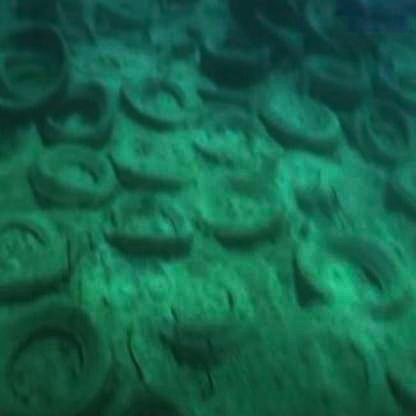tire: (13, 303, 124, 403), (128, 64, 208, 158), (1, 10, 73, 108), (37, 138, 125, 216), (46, 81, 118, 144)
